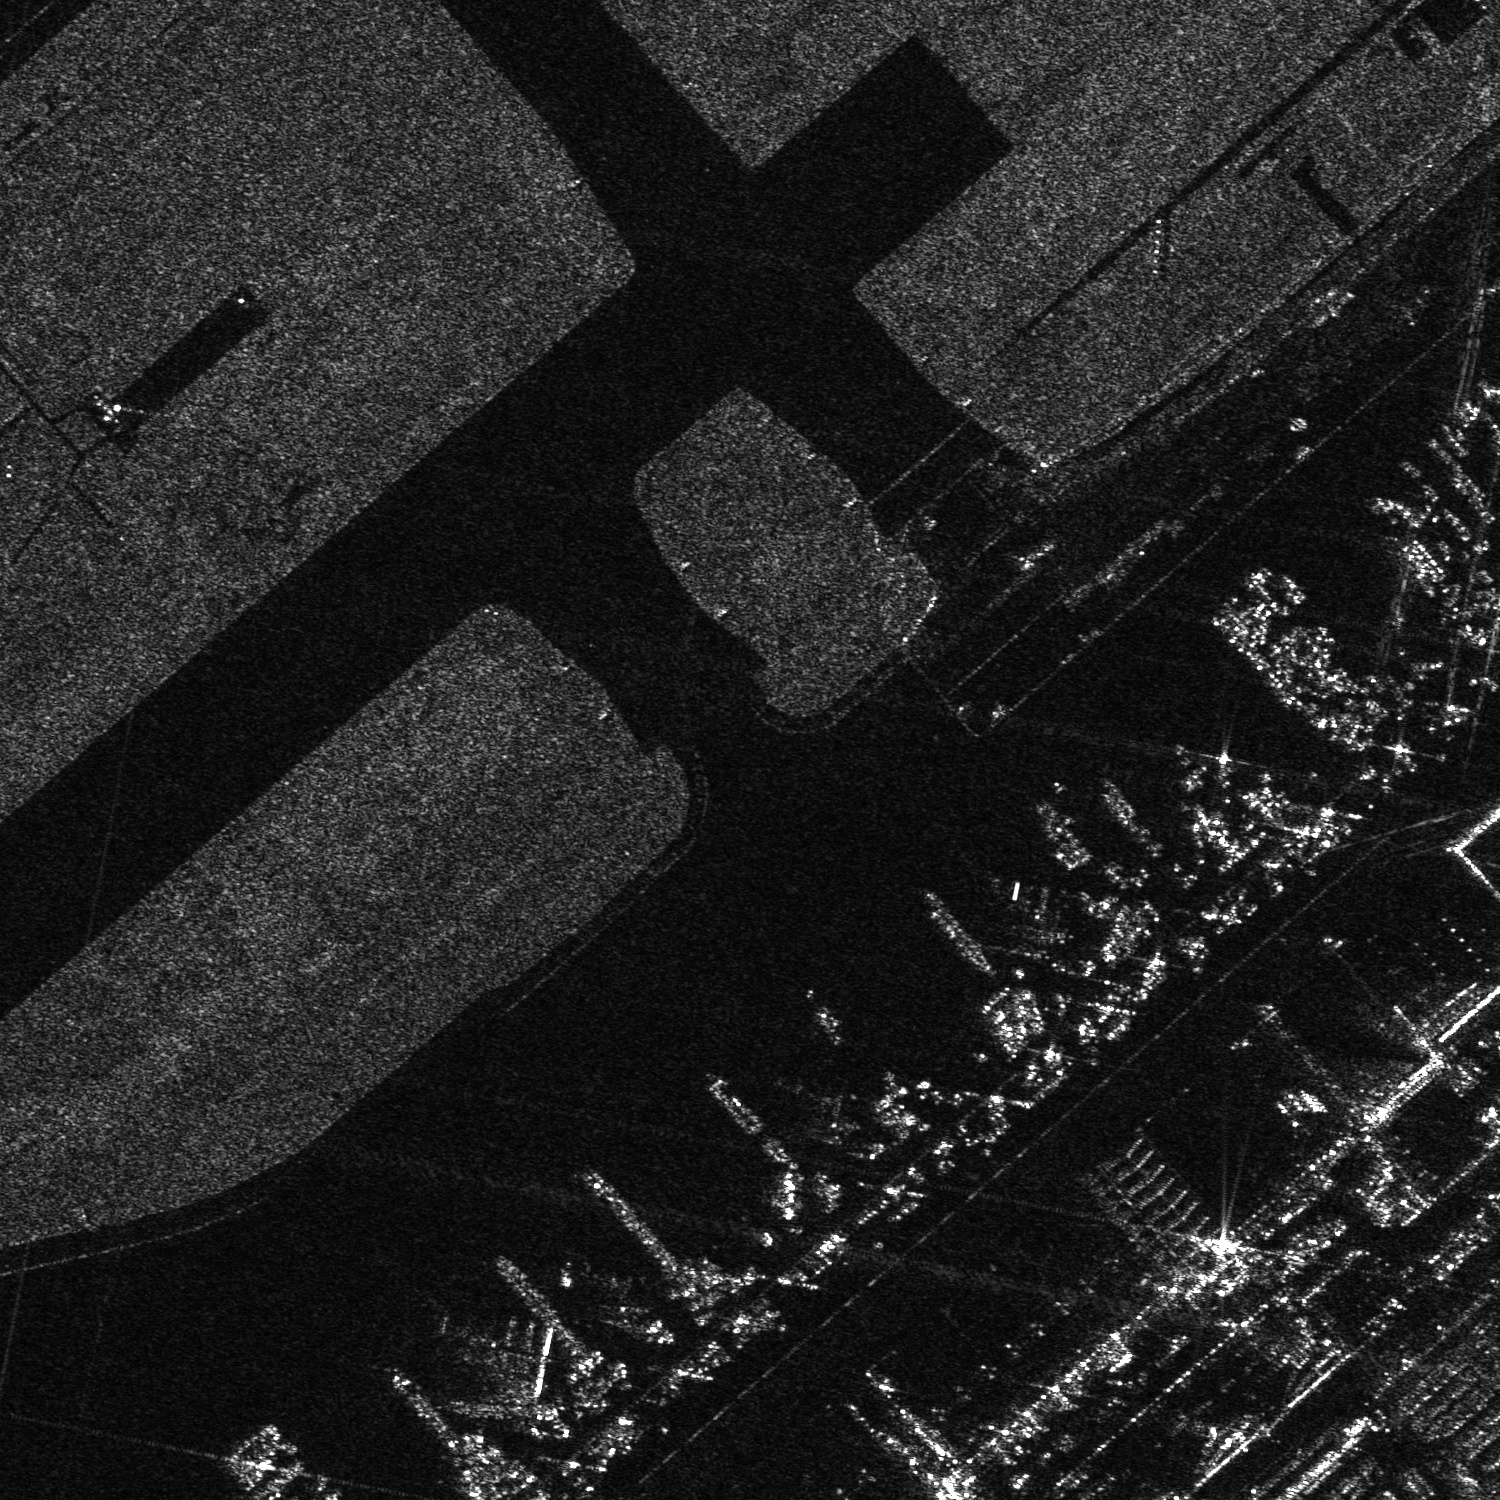Boeing787: (435, 1313, 549, 1415), (567, 1254, 674, 1339)
other: (988, 874, 1080, 953), (775, 1076, 859, 1136)
